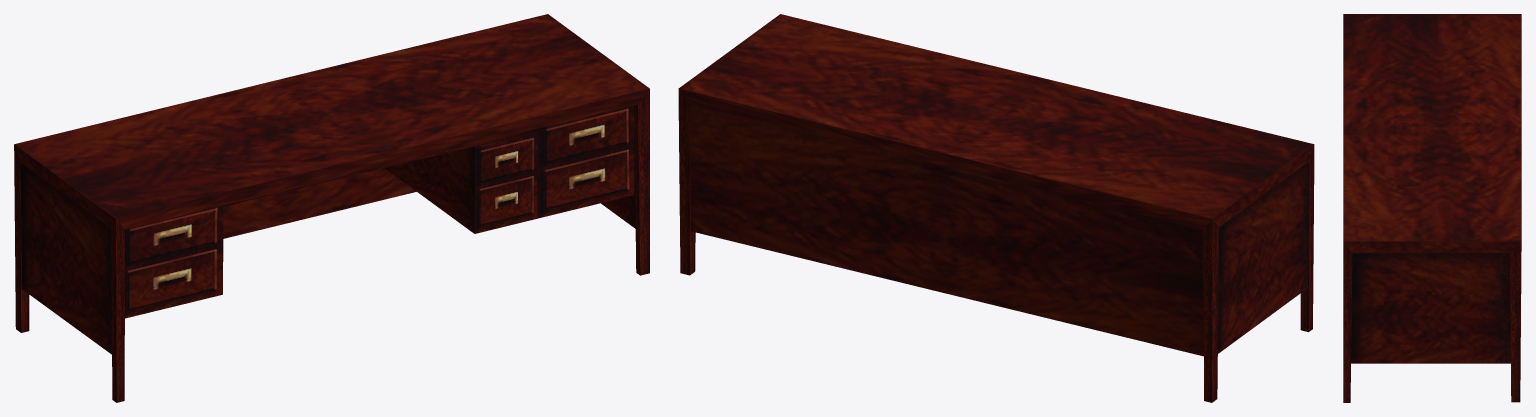
Rendered from desk_lrg_reg_brnwd.fbx.
3 views of the same model, side by side, from view 1: azimuth 30°, elevation 25°; view 2: azimuth 150°, elevation 25°; view 3: azimuth 270°, elevation 25° (orthographic). The views are drawn at different scales.
Visible parts, largest first — view 1: mesh_0; view 2: mesh_0; view 3: mesh_0.
Part boxes in pixels (<box>): mesh_0: <box>14,14,649,402</box>; mesh_0: <box>678,14,1314,402</box>; mesh_0: <box>1343,14,1521,402</box>.
Bounding box in the file's own units: 242 × 80.01 × 80.
Materials: 1 (1 with a texture image).
